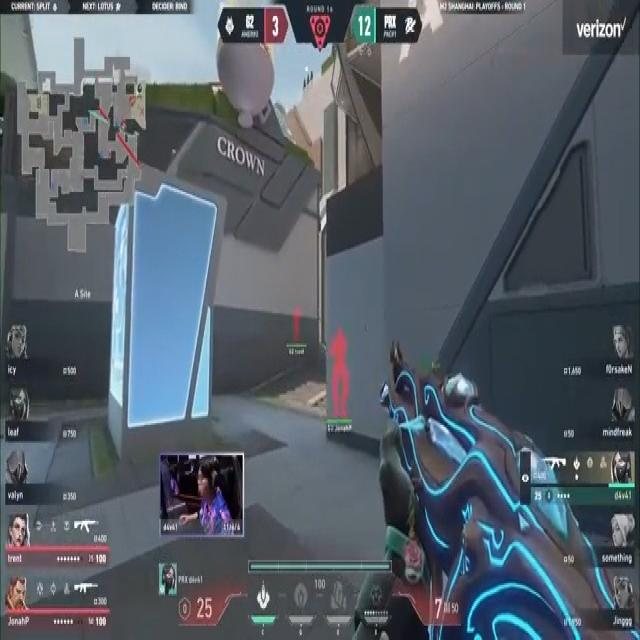enemy behind wall: (326, 325, 353, 426)
